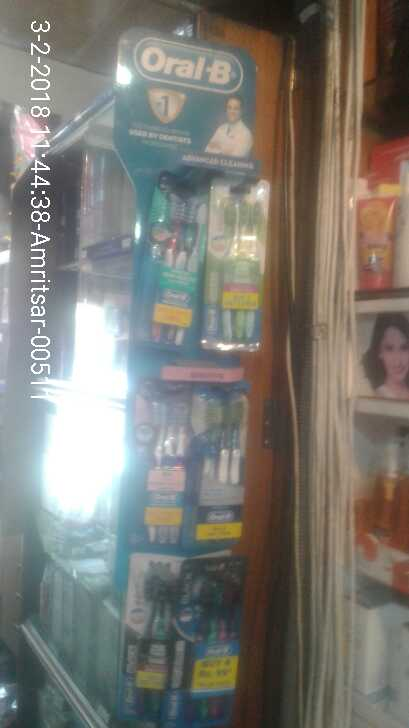oralb: (136, 192, 201, 366), (205, 176, 263, 351), (138, 382, 194, 550), (201, 383, 251, 549), (190, 559, 239, 726), (129, 554, 176, 723)
